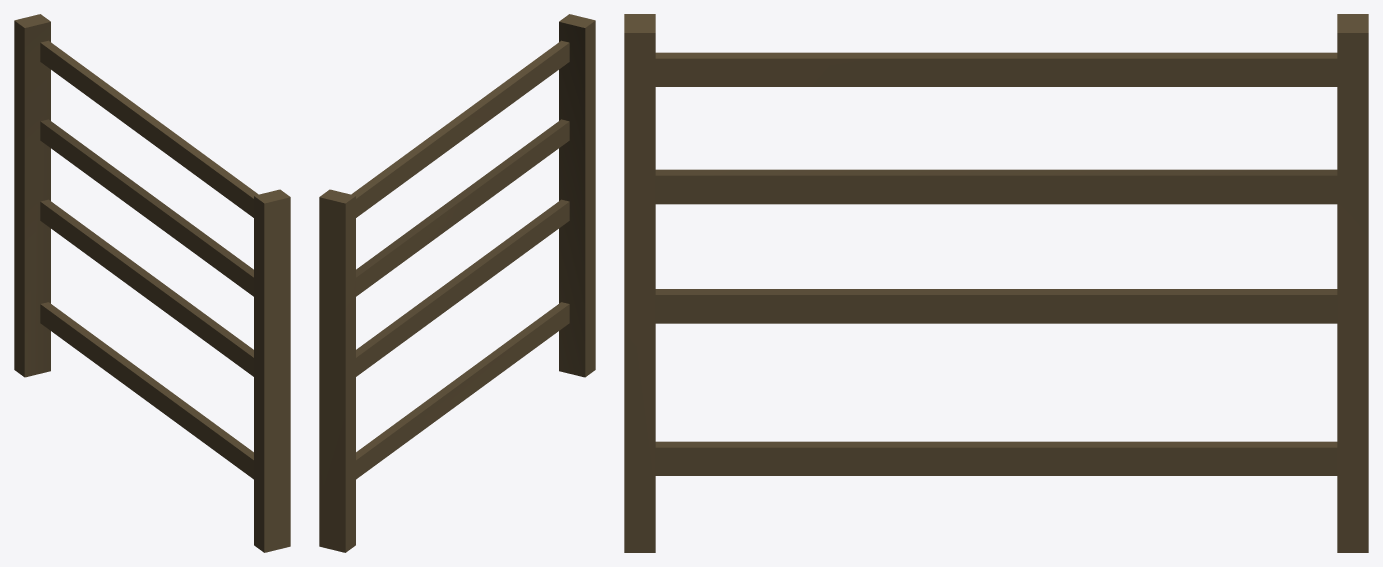
File: Wood_FenceThinTall.fbx
3 views of the same model, side by side, from view 1: azimuth 30°, elevation 25°; view 2: azimuth 150°, elevation 25°; view 3: azimuth 270°, elevation 25° (orthographic). The views are drawn at different scales.
Parts seen in each view (by area): view 1: Wood_FenceThinTall; view 2: Wood_FenceThinTall; view 3: Wood_FenceThinTall.
Boxes of the visible parts, x1,y1,x2,y2 form: Wood_FenceThinTall: (14, 14, 290, 552); Wood_FenceThinTall: (319, 14, 595, 552); Wood_FenceThinTall: (624, 14, 1368, 552).
Size of the model in its own units: 0.0103 by 0.1302 by 0.169.
